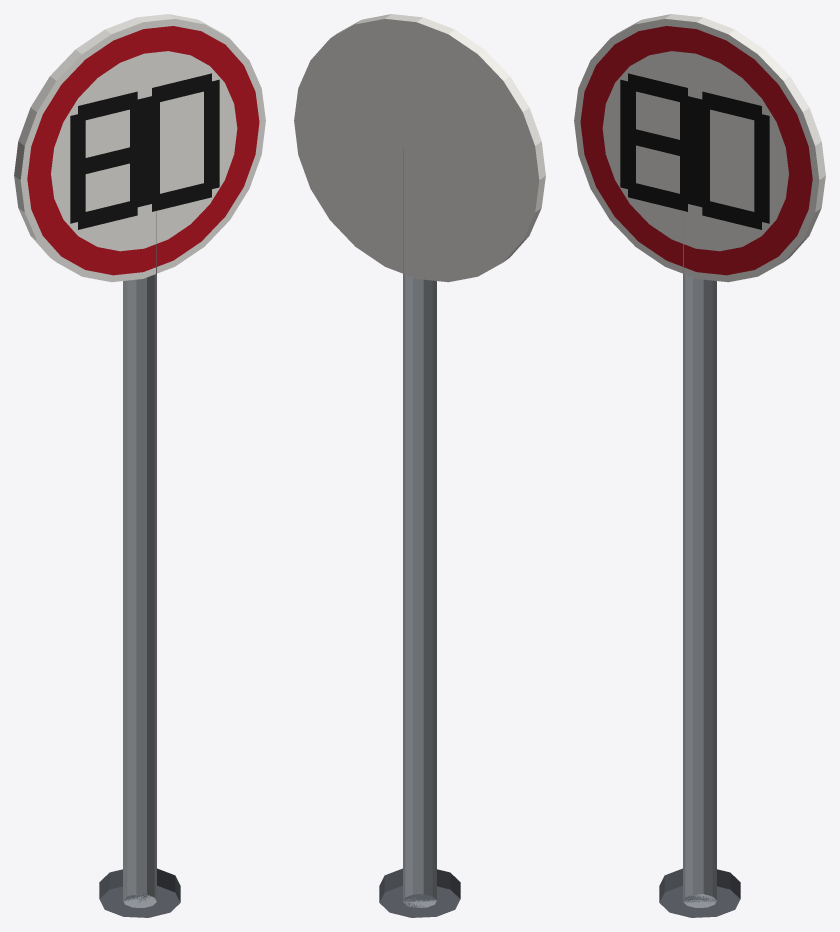
File: sign-speed-80.glb
3 views of the same model, side by side, from view 1: azimuth 30°, elevation 25°; view 2: azimuth 150°, elevation 25°; view 3: azimuth 330°, elevation 25° (orthographic).
Parts seen in each view (by area): view 1: sign-speed-80; view 2: sign-speed-80; view 3: sign-speed-80.
Boxes of the visible parts, x1,y1,x2,y2 form: sign-speed-80: (14,14,265,917); sign-speed-80: (294,14,545,917); sign-speed-80: (574,14,825,917).
Bounding box in the file's own units: 0.75 × 2.58 × 0.2054.
